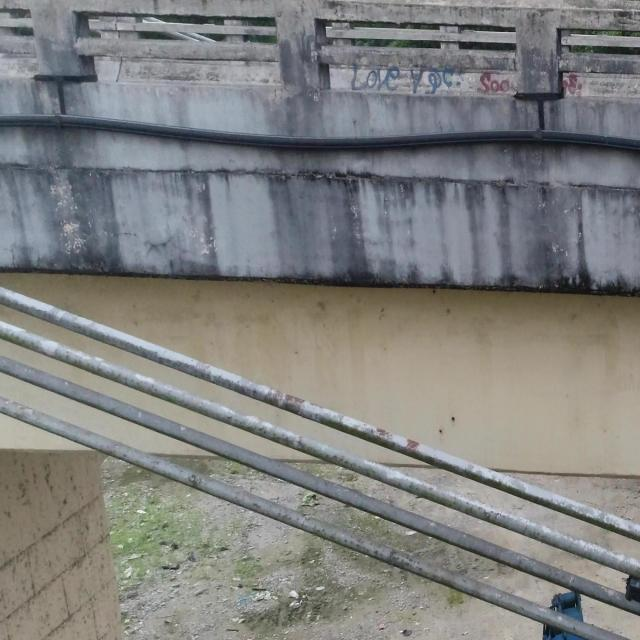corrosion: (284, 396, 304, 412), (269, 390, 282, 406), (375, 427, 388, 440), (407, 440, 418, 453)
